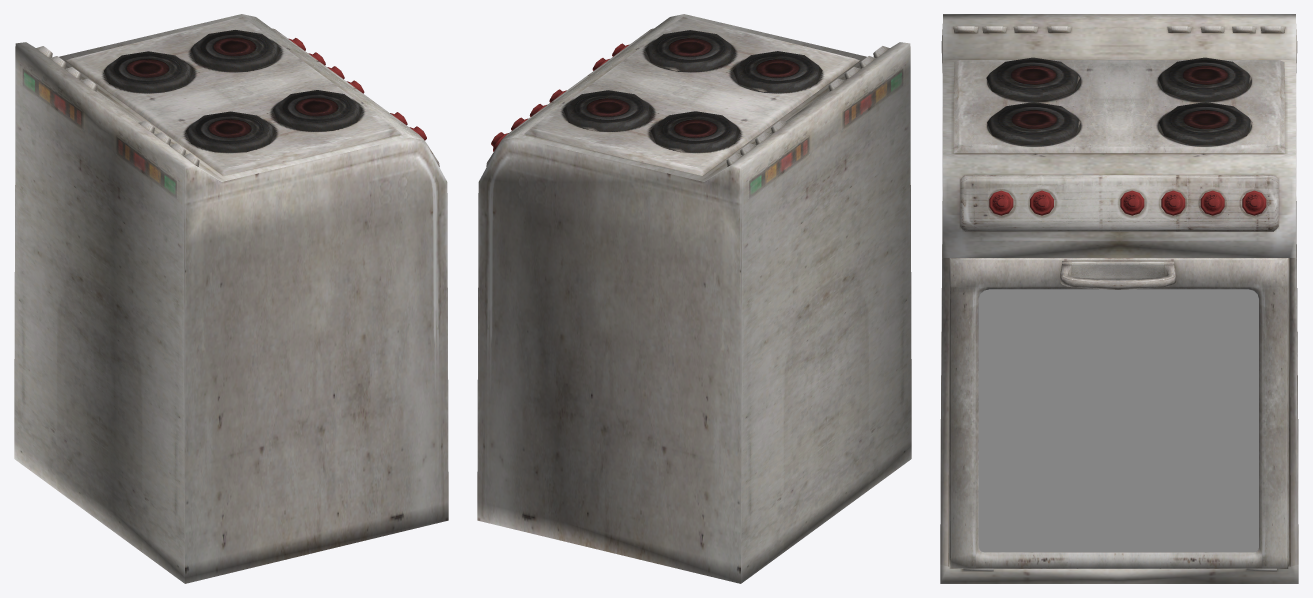
Rendered from stove.dae.
3 renders of one model, left to right at view 1: azimuth 30°, elevation 25°; view 2: azimuth 150°, elevation 25°; view 3: azimuth 270°, elevation 25°, orthographic. The views are drawn at different scales.
Visible parts, largest first — view 1: stove__2_; view 2: stove__2_; view 3: stove__2_, glass, door.
Boxes of the visible parts, bbox=[...] form: stove__2_: bbox=[14, 14, 448, 583]; stove__2_: bbox=[477, 14, 911, 583]; stove__2_: bbox=[940, 14, 1298, 583]; glass: bbox=[979, 289, 1258, 552]; door: bbox=[948, 258, 1289, 568].
Size of the model in its own units: 0.6705 by 0.9015 by 0.6725.
